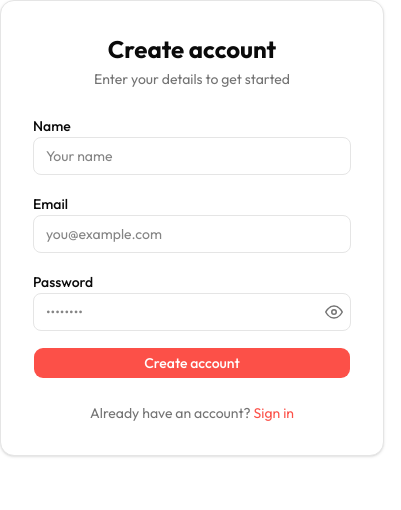
Test case: RegisterForm › shows error when backend says email already exists
The width and height of the screenshot is (401, 510).
Type "Tim" into the field labelled "Name" at (192, 156), box x1=33 y1=137 x2=351 y2=175
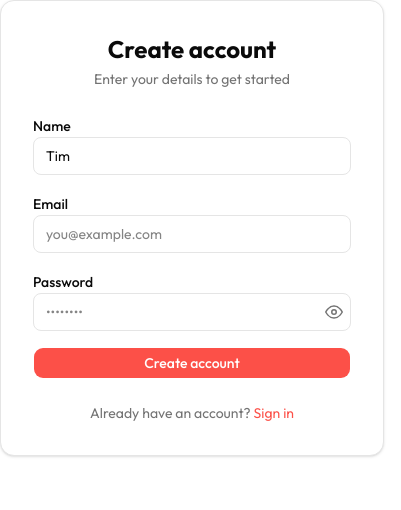
Type "existing@test.com" into the field labelled "Email" at (192, 234), box x1=33 y1=215 x2=351 y2=253
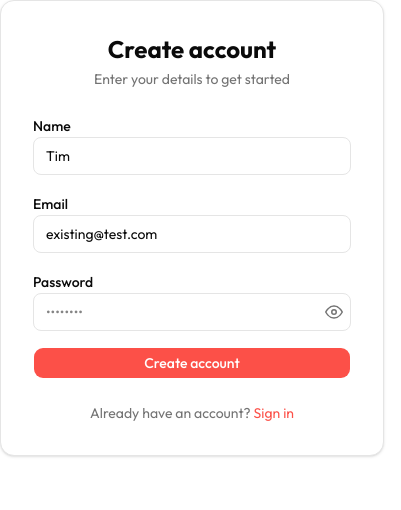
Type "password123" into the password field labelled "Password" at (192, 312), box x1=33 y1=293 x2=351 y2=331
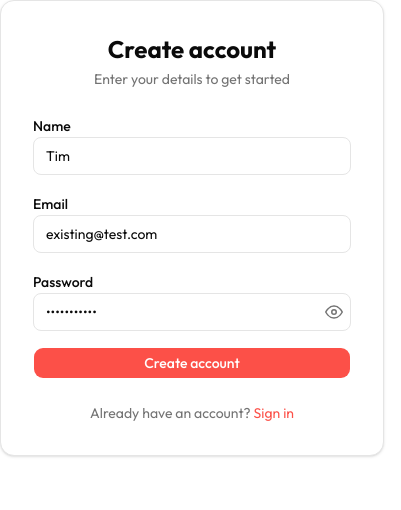
Submit the form "Name Email Password Create account", box x1=33 y1=113 x2=351 y2=379
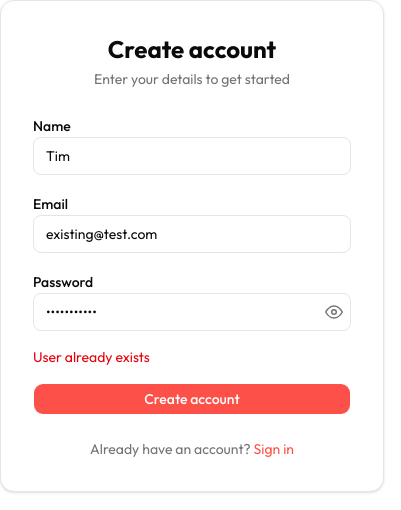
Check: the text "User already exists" is shown, box x1=33 y1=348 x2=150 y2=366
